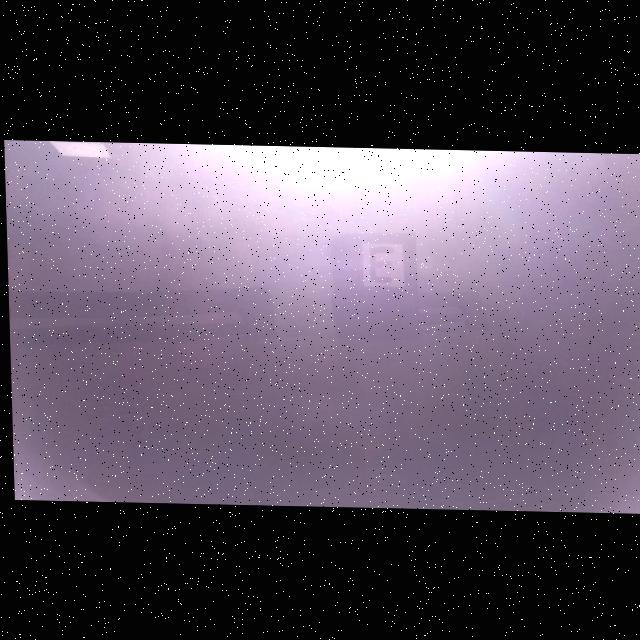E: (369, 246, 391, 281)
